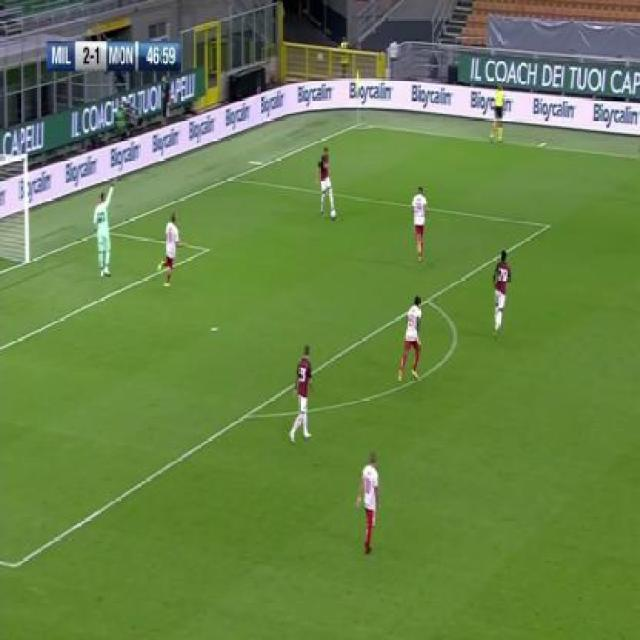ball: (330, 209, 338, 222)
player: (287, 345, 316, 445), (356, 450, 382, 556), (396, 294, 424, 385), (93, 187, 115, 281), (490, 247, 512, 340), (158, 211, 183, 291), (315, 145, 338, 219), (412, 184, 429, 264), (489, 82, 506, 144)
